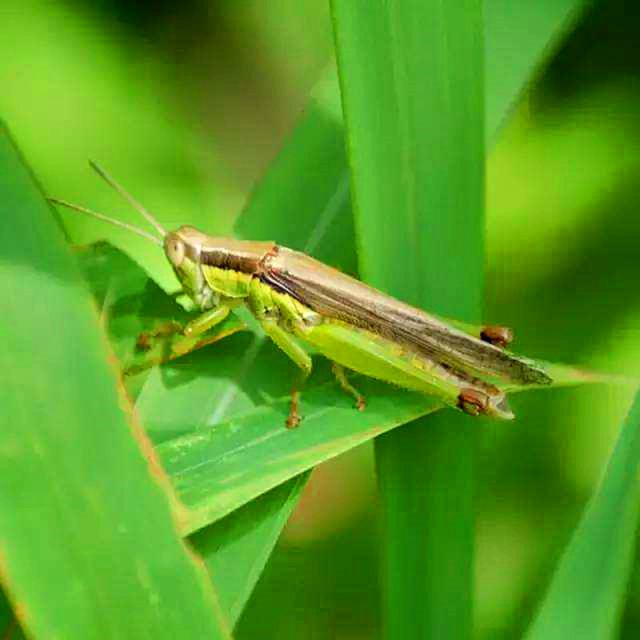ZhaMeng: (109, 162, 557, 448)
